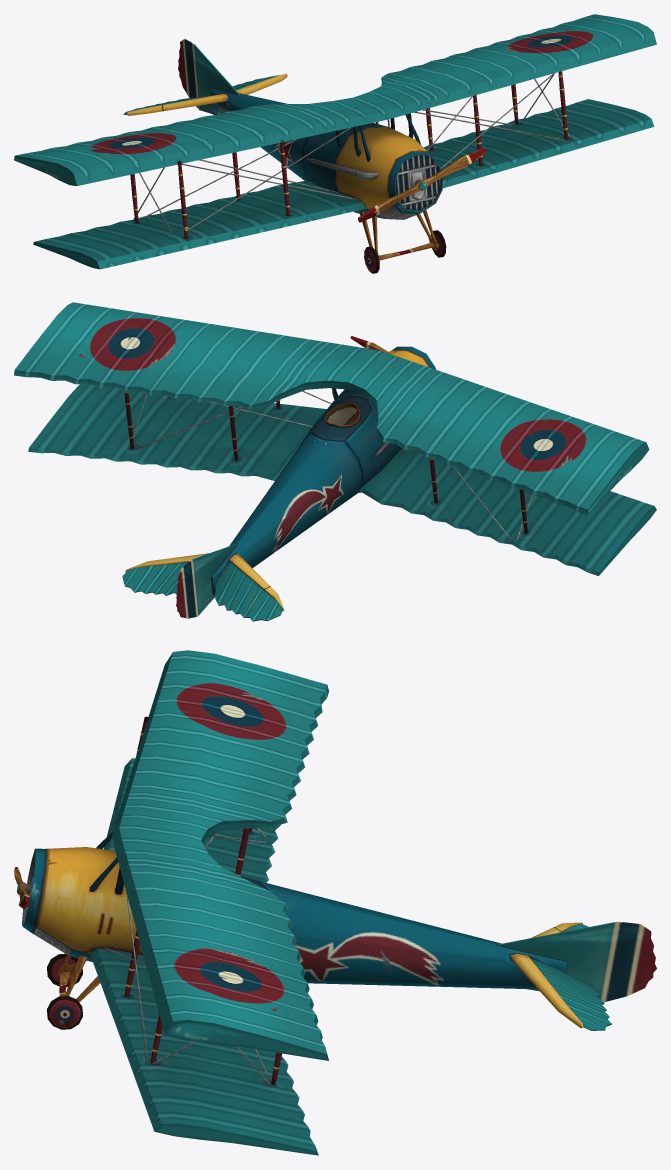
The model's file is planeplane.FBX.
3 renders of one model, top to bottom at view 1: azimuth 30°, elevation 25°; view 2: azimuth 150°, elevation 25°; view 3: azimuth 270°, elevation 25°, orthographic. The views are drawn at different scales.
Parts seen in each view (by area): view 1: Object014; view 2: Object014; view 3: Object014.
Part boxes in pixels (bbox=[...]): Object014: bbox=[14, 14, 656, 273]; Object014: bbox=[14, 302, 656, 621]; Object014: bbox=[14, 650, 656, 1155].
Size of the model in its own units: 1312 by 964 by 298.
1 material, 1 textured.
